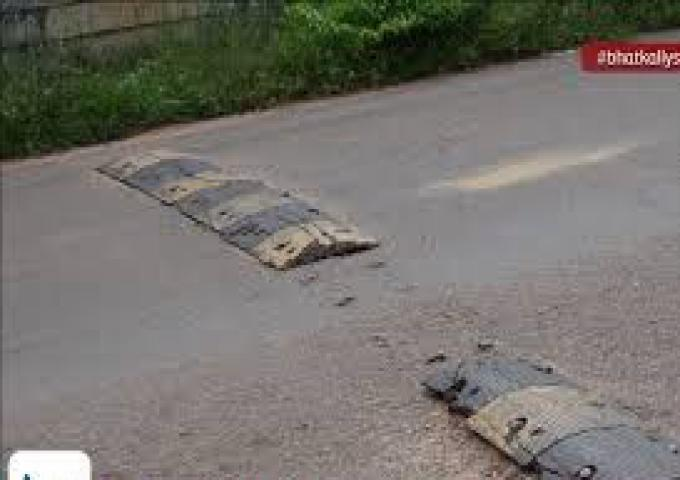speedbreaker: (414, 327, 678, 477), (96, 147, 386, 277)
